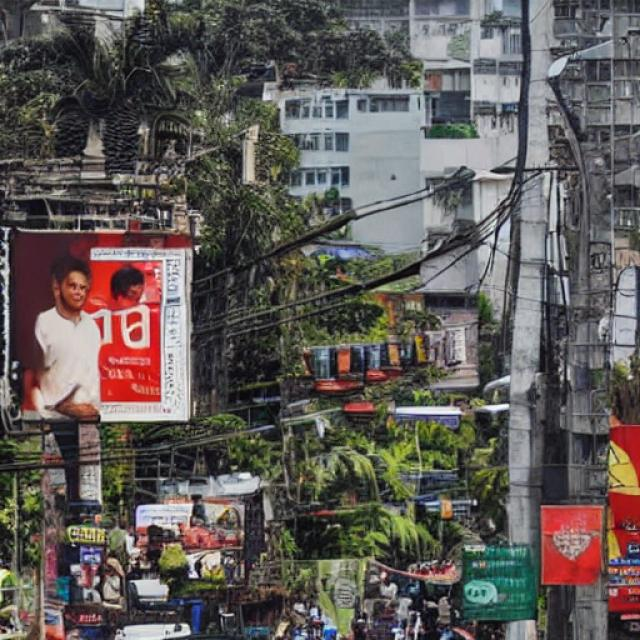Billboard: (1, 227, 197, 425)
